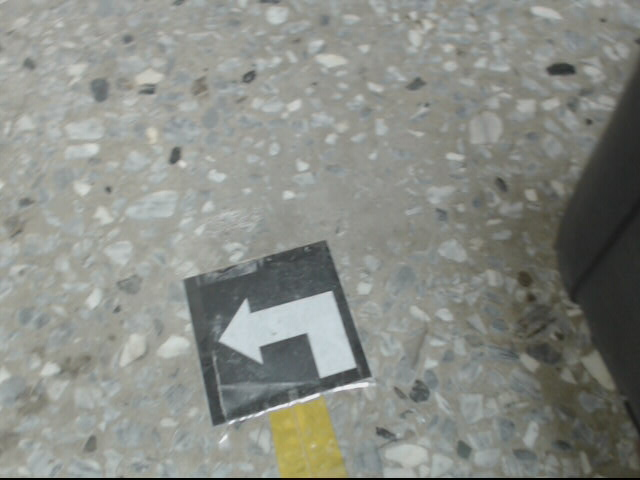left: (185, 239, 376, 425)
